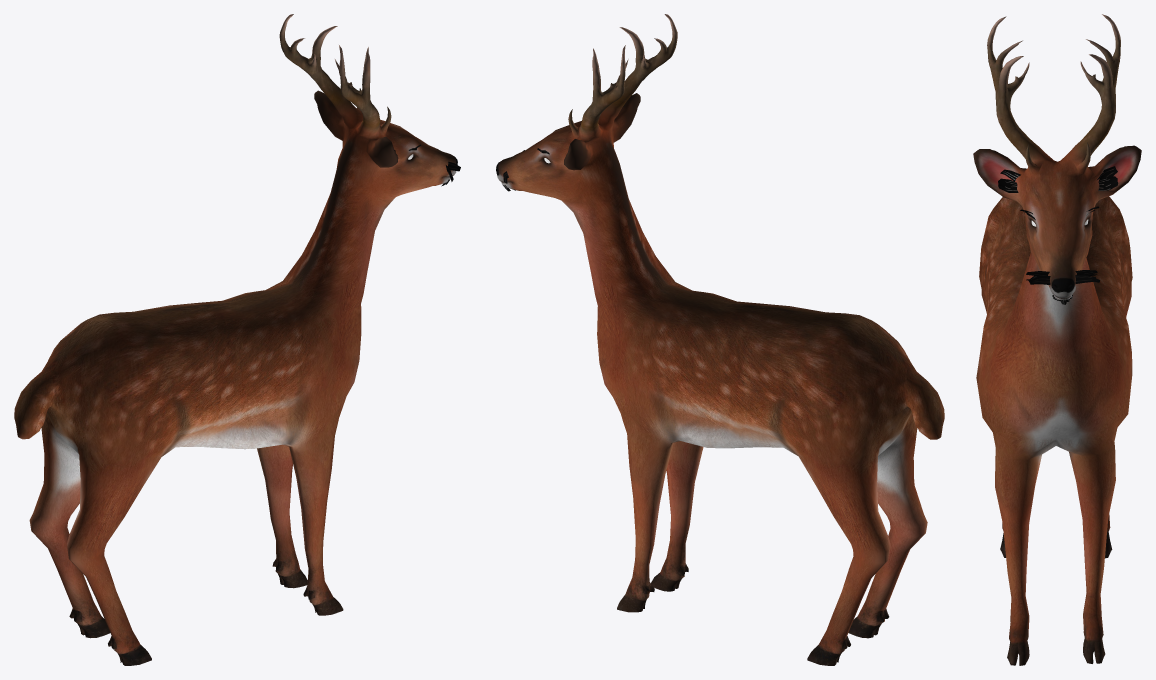
The model's file is Deer model.obj.
3 renders of one model, left to right at view 1: azimuth 30°, elevation 25°; view 2: azimuth 150°, elevation 25°; view 3: azimuth 270°, elevation 25°, orthographic. The views are drawn at different scales.
Visible parts, largest first — view 1: desirefx_me_002; view 2: desirefx_me_002; view 3: desirefx_me_002, desirefx_me_003.
Part boxes in pixels (x1,y1,x2,y2): desirefx_me_002: [14, 14, 457, 665]; desirefx_me_002: [496, 14, 944, 665]; desirefx_me_002: [973, 14, 1141, 665]; desirefx_me_003: [998, 166, 1118, 304].
Bounding box in the file's own units: 66.68 × 82.34 × 19.47.
